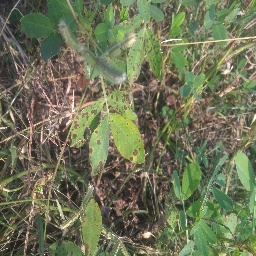GroundNut_Leaf: (110, 112, 146, 165), (79, 199, 105, 256), (88, 116, 108, 175), (94, 7, 124, 46), (18, 10, 53, 38), (128, 29, 144, 84), (146, 30, 162, 80), (233, 152, 256, 186), (182, 162, 202, 201), (179, 73, 205, 103), (106, 90, 135, 111), (67, 113, 86, 142), (212, 22, 229, 48)
